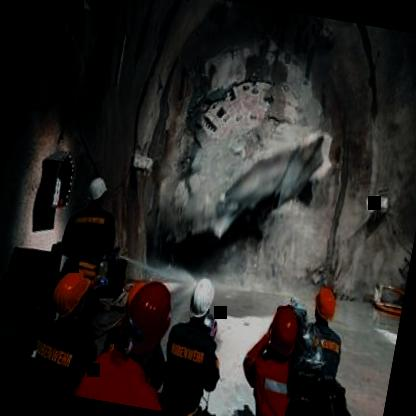helmet: (115, 271, 178, 358), (50, 262, 105, 324), (261, 298, 306, 362), (185, 273, 221, 326), (309, 280, 342, 328), (82, 175, 112, 210)
